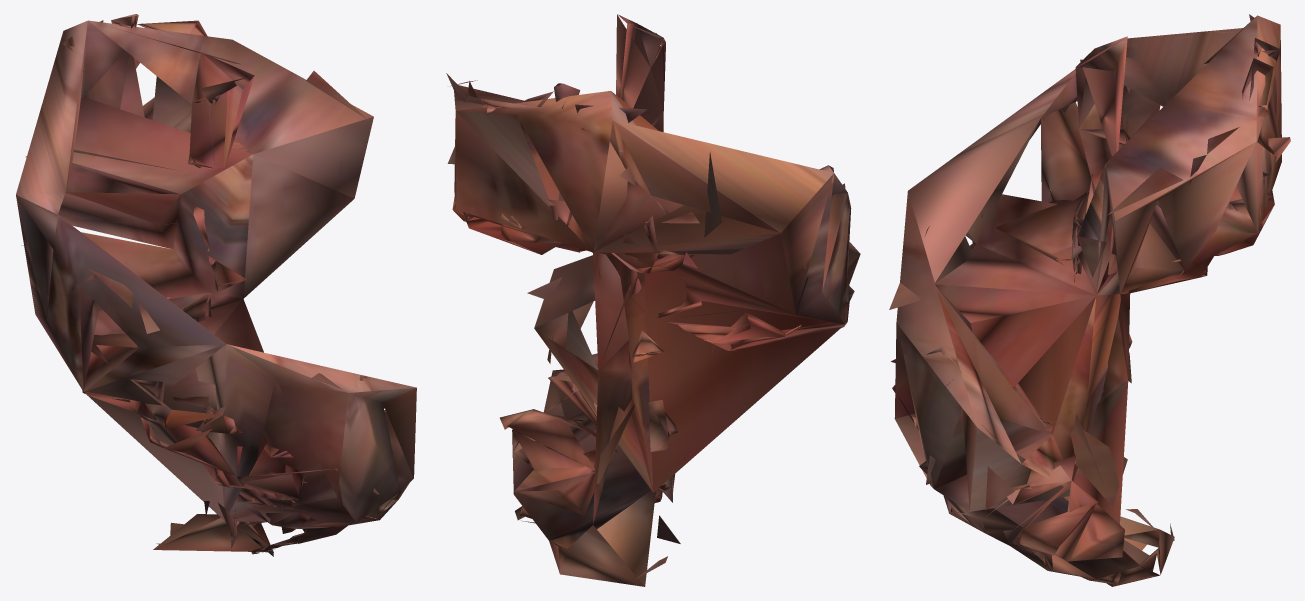
File: lg-dungeon-stairs.glb
3 views of the same model, side by side, from view 1: azimuth 30°, elevation 25°; view 2: azimuth 150°, elevation 25°; view 3: azimuth 270°, elevation 25° (orthographic). The views are drawn at different scales.
Visible parts, largest first — view 1: geometry_0; view 2: geometry_0; view 3: geometry_0.
Boxes of the visible parts, box(x1,y1,x2,y2) form: geometry_0: box(16, 14, 416, 556); geometry_0: box(446, 14, 860, 586); geometry_0: box(889, 14, 1290, 586).
Size of the model in its own units: 0.7279 by 1 by 0.7026.
Materials: 1 (1 with a texture image).
